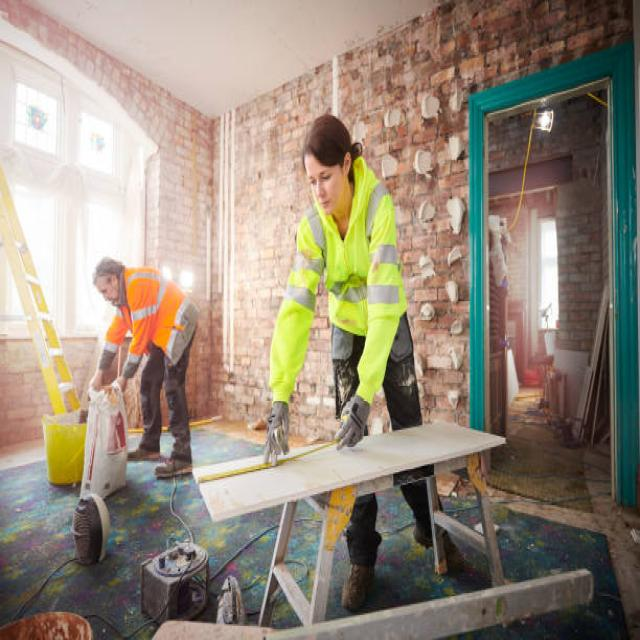gloves: (260, 402, 291, 468), (337, 389, 372, 447)
